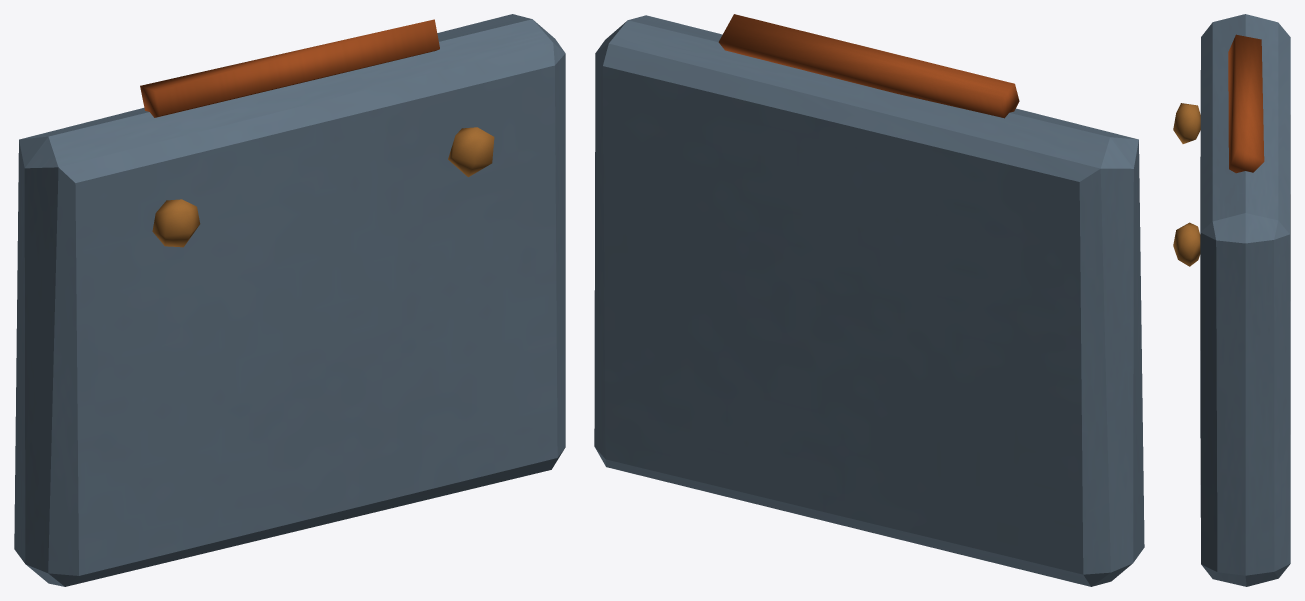
The model's file is SM_iron_shield_fragment_LOD2.fbx.
3 views of the same model, side by side, from view 1: azimuth 30°, elevation 25°; view 2: azimuth 150°, elevation 25°; view 3: azimuth 270°, elevation 25° (orthographic). The views are drawn at different scales.
Visible parts, largest first — view 1: SM_iron_shield_fragment_LOD2; view 2: SM_iron_shield_fragment_LOD2; view 3: SM_iron_shield_fragment_LOD2.
Part boxes in pixels (box(x1,y1,x2,y2)): SM_iron_shield_fragment_LOD2: box(14, 14, 565, 586); SM_iron_shield_fragment_LOD2: box(594, 14, 1144, 586); SM_iron_shield_fragment_LOD2: box(1173, 14, 1290, 586).
Size of the model in its own units: 0.3592 by 0.0821 by 0.3063.
